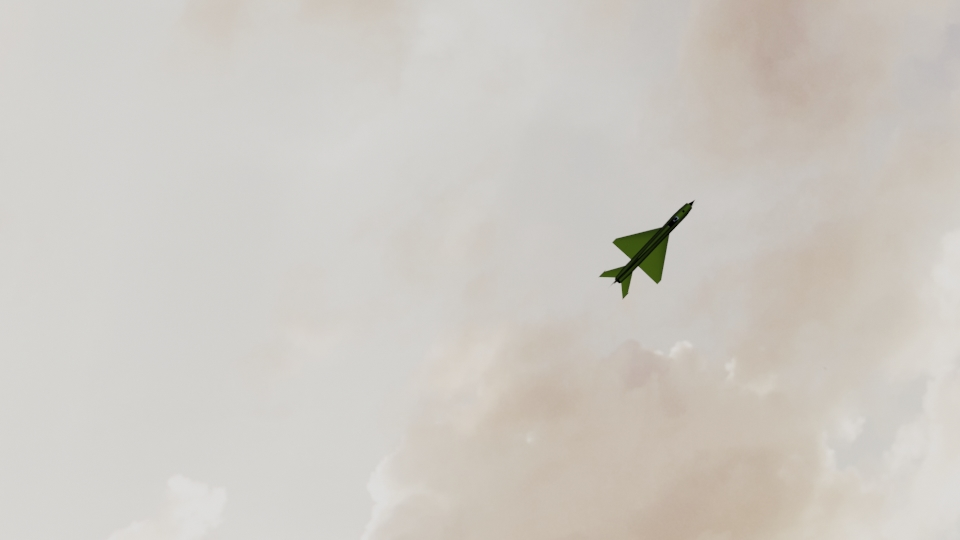plane: (598, 198, 696, 299)
